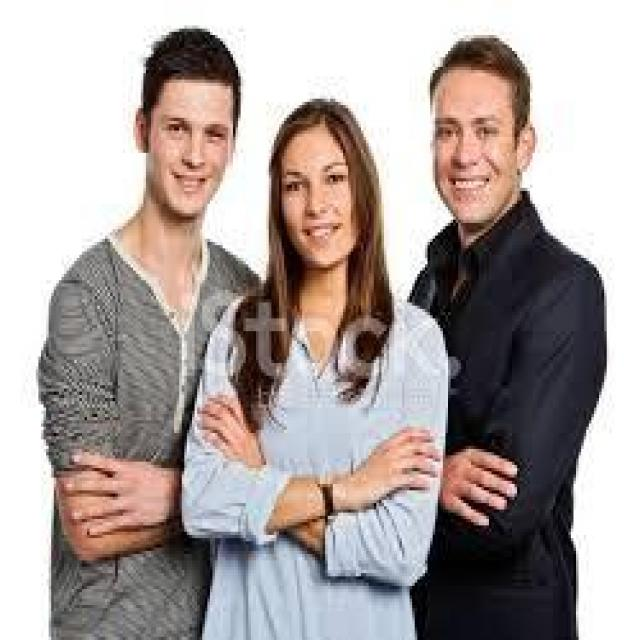person: (8, 6, 251, 634), (379, 12, 614, 634), (220, 79, 443, 636)
